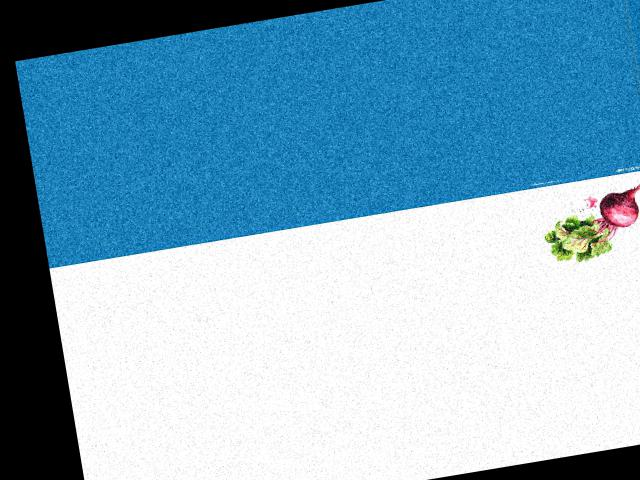beet: (537, 182, 640, 266)
